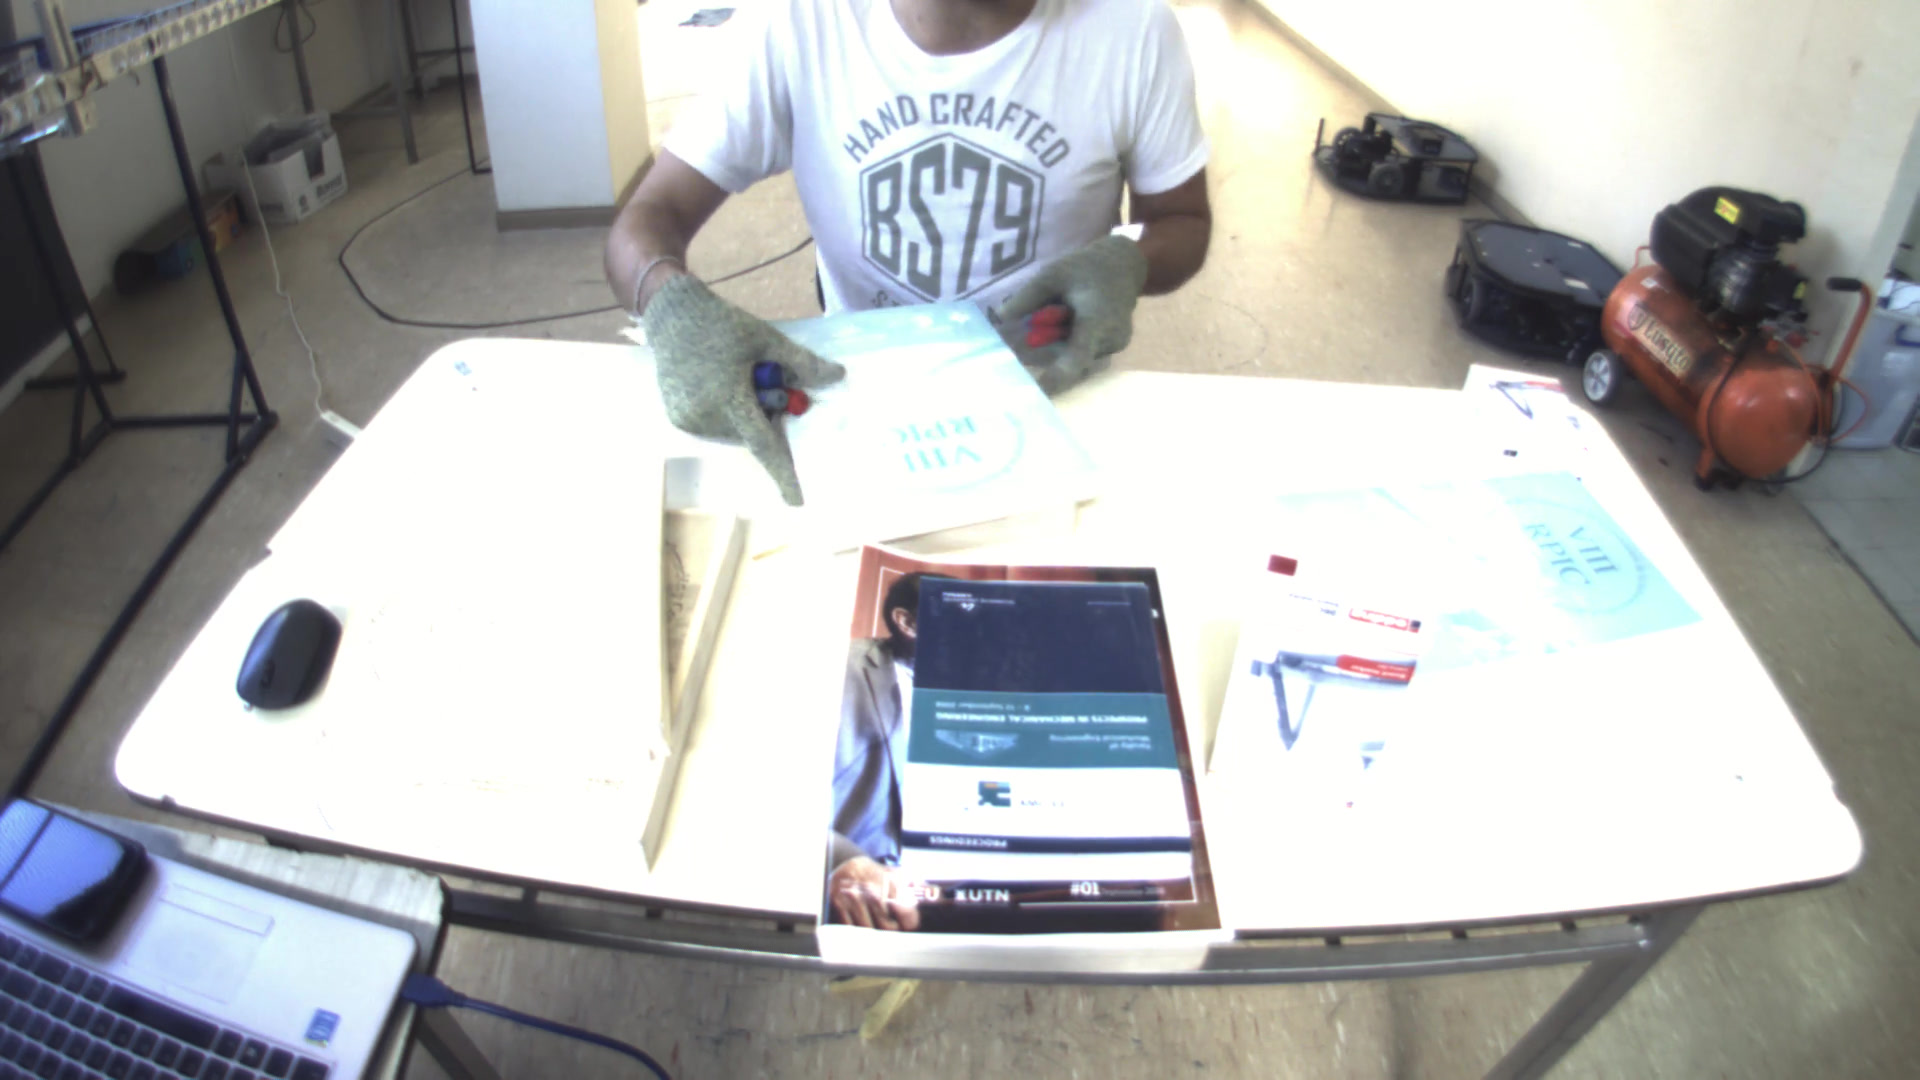hand: (618, 260, 844, 514), (984, 227, 1156, 398)
